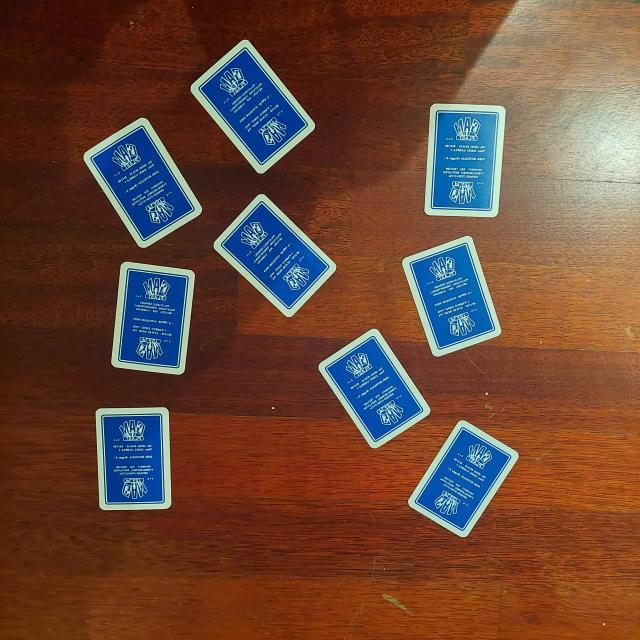card: (189, 47, 311, 176), (81, 121, 200, 250), (216, 193, 335, 317), (407, 418, 511, 536), (319, 333, 412, 448), (109, 258, 198, 376), (422, 99, 506, 217), (409, 241, 486, 356), (100, 406, 171, 513)
